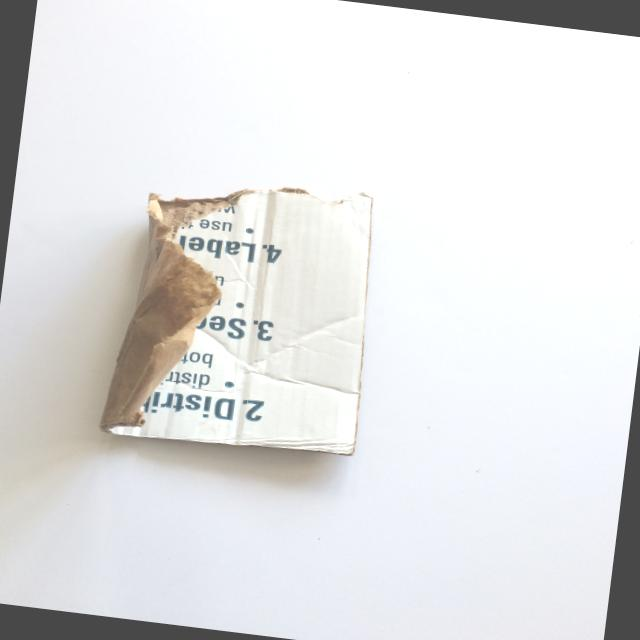Cardboard: (42, 147, 520, 575)
